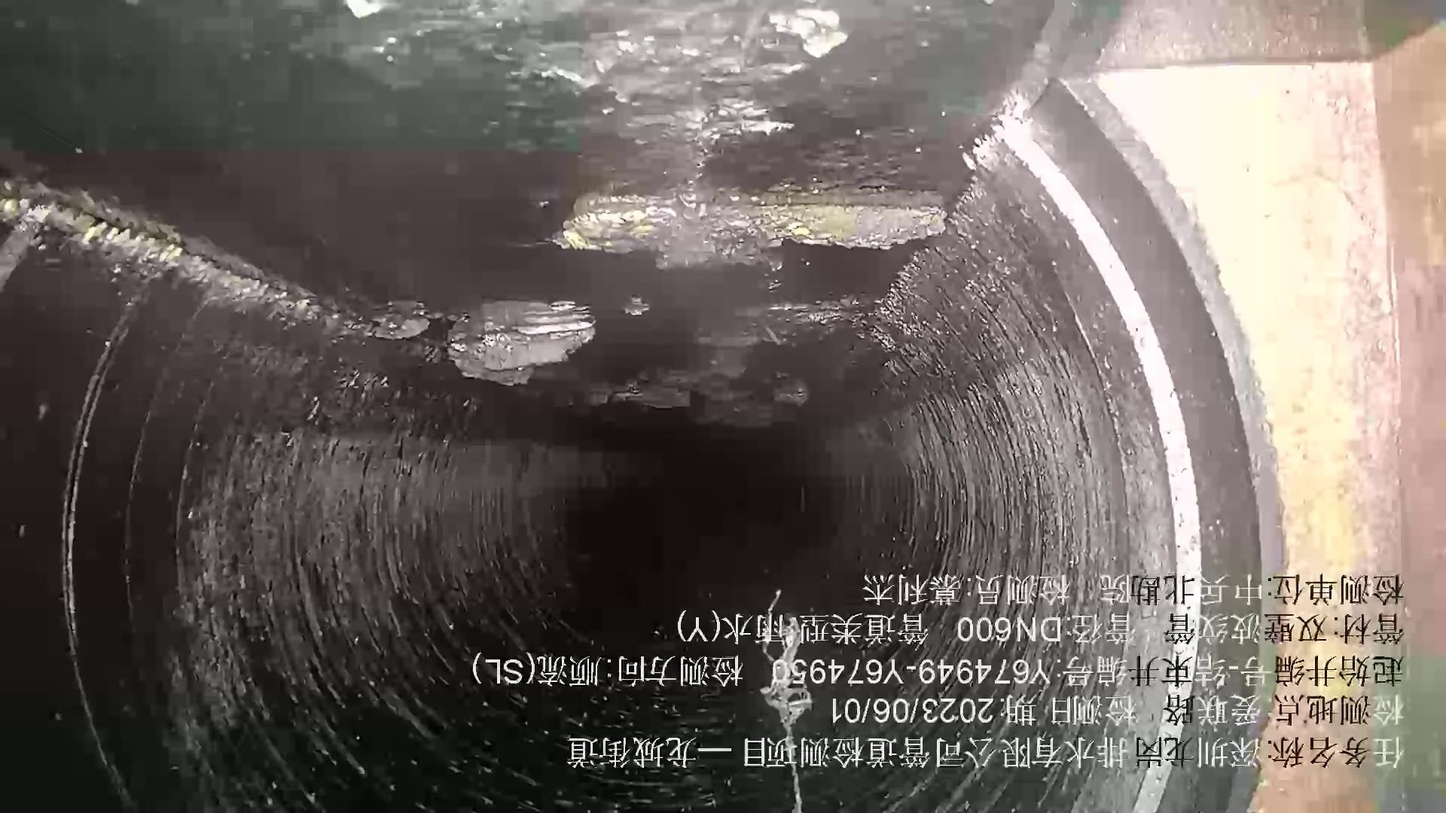CJ: (1, 1, 1057, 426)
